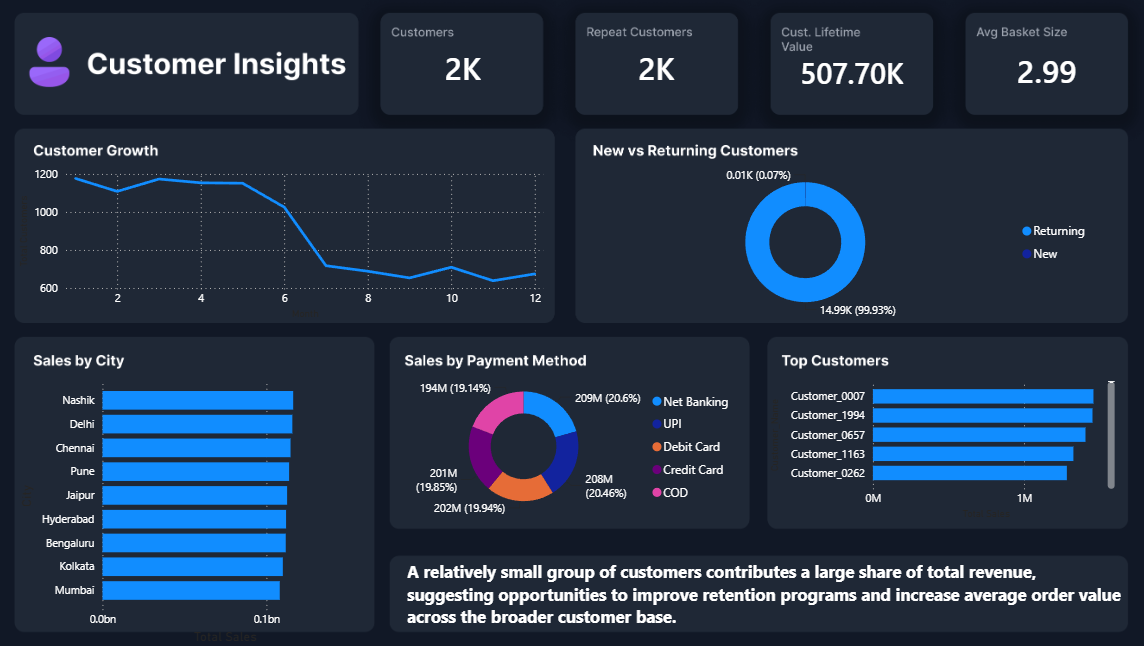

What the dashboard file says about the page in this screenshot:
{"tool":"powerbi","page":{"name":"Customer Insights","canvas":[1280,720],"ordinal":3},"visuals":[{"type":"cardVisual","fields":{"Data":["Measures (3).Total Customers"]},"box":[438.3,25,161.7,100],"z":0},{"type":"cardVisual","fields":{"Data":["Measures (3).Average Basket Size"]},"box":[1086.4,28.6,162.2,100.2],"z":1000},{"type":"cardVisual","fields":{"Data":["Measures (3).Customer Lifetime Value"]},"box":[855.7,30.2,192.5,100.2],"z":2000},{"type":"cardVisual","fields":{"Data":["Measures (3).Repeat Customers"]},"box":[653.3,25,161.7,100],"z":3000},{"type":"lineChart","fields":{"Category":["Dataset.Month"],"Y":["Measures (3).Total Customers"]},"box":[20.7,179.7,593.3,179.7],"z":4000},{"type":"donutChart","fields":{"Category":["Dataset.Customer Type"],"Y":["CountNonNull(Dataset.Customer_ID)"]},"box":[653.7,179.7,571,179.7],"z":5000},{"type":"barChart","fields":{"Y":["Measures (3).Total Sales"],"Category":["Dataset.Customer_Name"]},"box":[855.7,412,392.9,170.2],"z":6000},{"type":"clusteredBarChart","fields":{"Category":["Dataset.City"],"Y":["Measures (3).Total Sales"]},"box":[20.7,412,391.3,308.6],"z":7000},{"type":"donutChart","fields":{"Category":["Dataset.Payment_Method"],"Y":["Measures (3).Total Sales"]},"box":[438.3,411.7,390,170],"z":8000},{"type":"textbox","box":[451.7,618.7,808,101.8],"z":9000}]}

Visuals, with their boxes in screenshot pixels (x1, y1, x2, y2), scaled from the page's 1280x720 canvas onto the 1144x646 screenshot:
cardVisual - Measures (3).Total Customers: 392,22,536,112
cardVisual - Measures (3).Average Basket Size: 971,26,1116,116
cardVisual - Measures (3).Customer Lifetime Value: 765,27,937,117
cardVisual - Measures (3).Repeat Customers: 584,22,728,112
lineChart - Dataset.Month x Measures (3).Total Customers: 19,161,549,322
donutChart - Dataset.Customer Type x CountNonNull(Dataset.Customer_ID): 584,161,1095,322
barChart - Measures (3).Total Sales x Dataset.Customer_Name: 765,370,1116,522
clusteredBarChart - Dataset.City x Measures (3).Total Sales: 19,370,368,645
donutChart - Dataset.Payment_Method x Measures (3).Total Sales: 392,369,740,522
textbox: 404,555,1126,645
